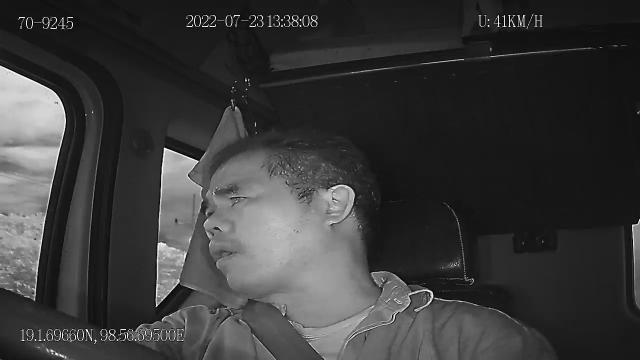Seatbelt: (242, 296, 326, 360)
